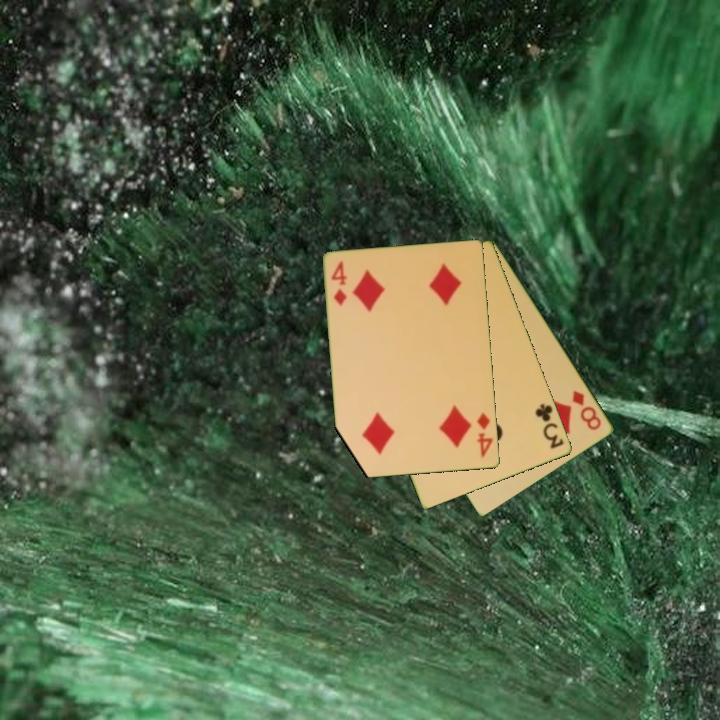3c: (532, 400, 567, 452)
4d: (474, 409, 496, 461), (328, 258, 350, 309)
8d: (569, 386, 604, 433)
